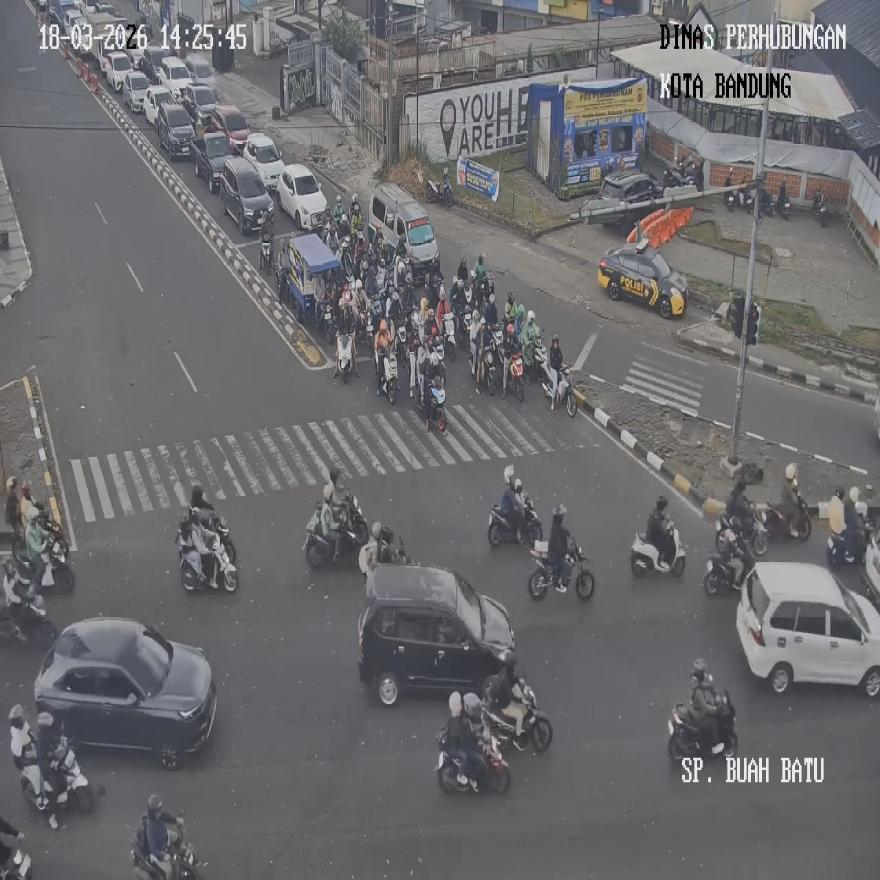Motor: (35, 616, 218, 770), (357, 562, 515, 704), (735, 560, 880, 695), (220, 155, 274, 235), (278, 164, 327, 231)
Truk: (18, 734, 93, 818), (435, 720, 510, 794), (480, 676, 552, 753), (668, 688, 738, 760), (0, 557, 55, 643), (178, 514, 238, 592), (13, 517, 74, 593), (131, 814, 201, 879), (304, 496, 366, 567), (528, 537, 594, 600), (629, 519, 684, 577), (358, 524, 412, 580), (704, 536, 754, 596), (488, 495, 543, 546), (826, 511, 874, 566), (717, 509, 767, 558), (760, 495, 812, 541), (543, 363, 576, 417), (0, 838, 32, 878), (374, 347, 396, 402), (474, 341, 496, 396), (424, 378, 446, 432), (334, 331, 355, 383), (506, 350, 526, 400), (426, 174, 454, 208), (528, 341, 547, 384), (442, 312, 457, 358), (318, 302, 334, 343), (811, 190, 828, 228), (773, 183, 790, 220), (724, 168, 737, 211), (258, 236, 272, 275)
